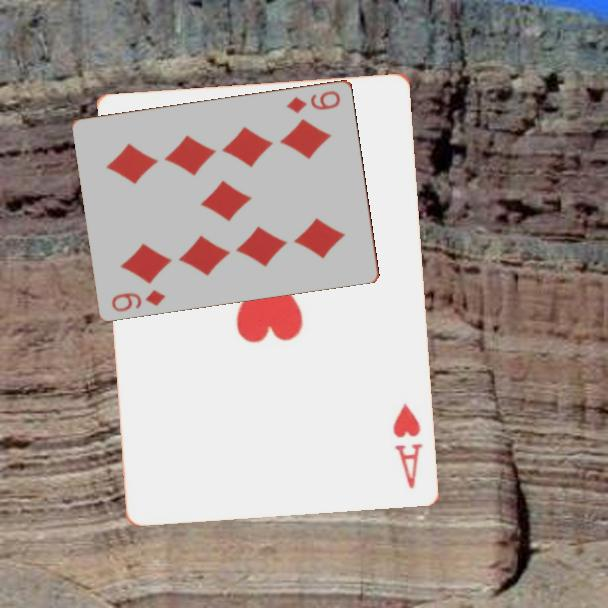d09: (284, 87, 344, 116), (108, 286, 169, 314)
h01: (389, 399, 425, 491)
